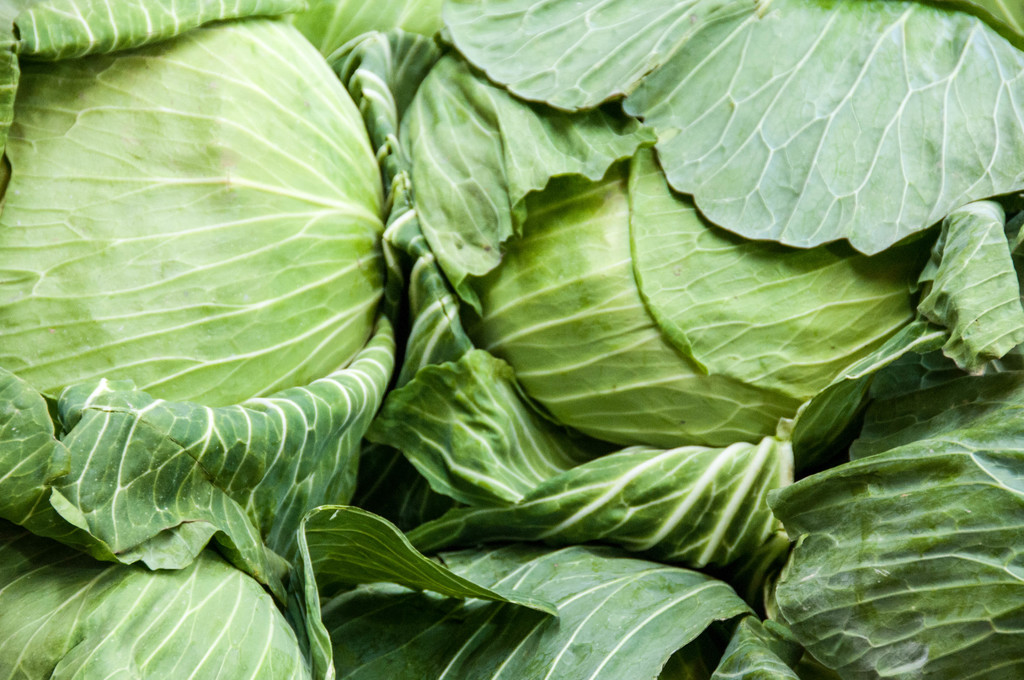Cabbage: (0, 0, 1024, 679)
